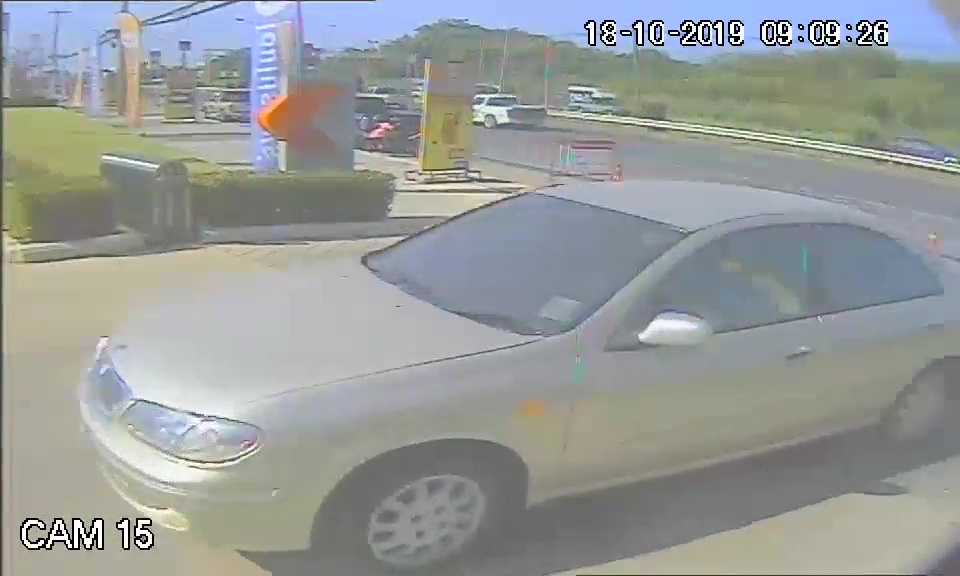sedan: (77, 181, 837, 557)
